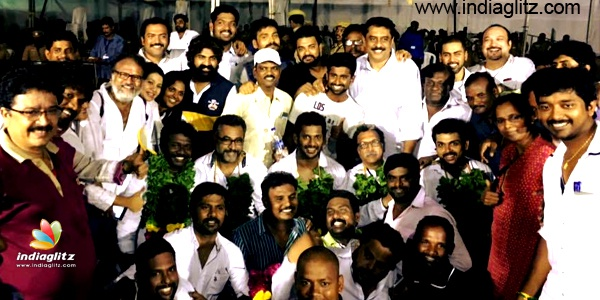bad: (8, 95, 60, 147), (533, 84, 584, 136), (317, 198, 353, 234), (193, 198, 229, 234), (265, 186, 301, 222), (109, 62, 145, 98), (293, 126, 329, 162), (361, 30, 397, 66)
